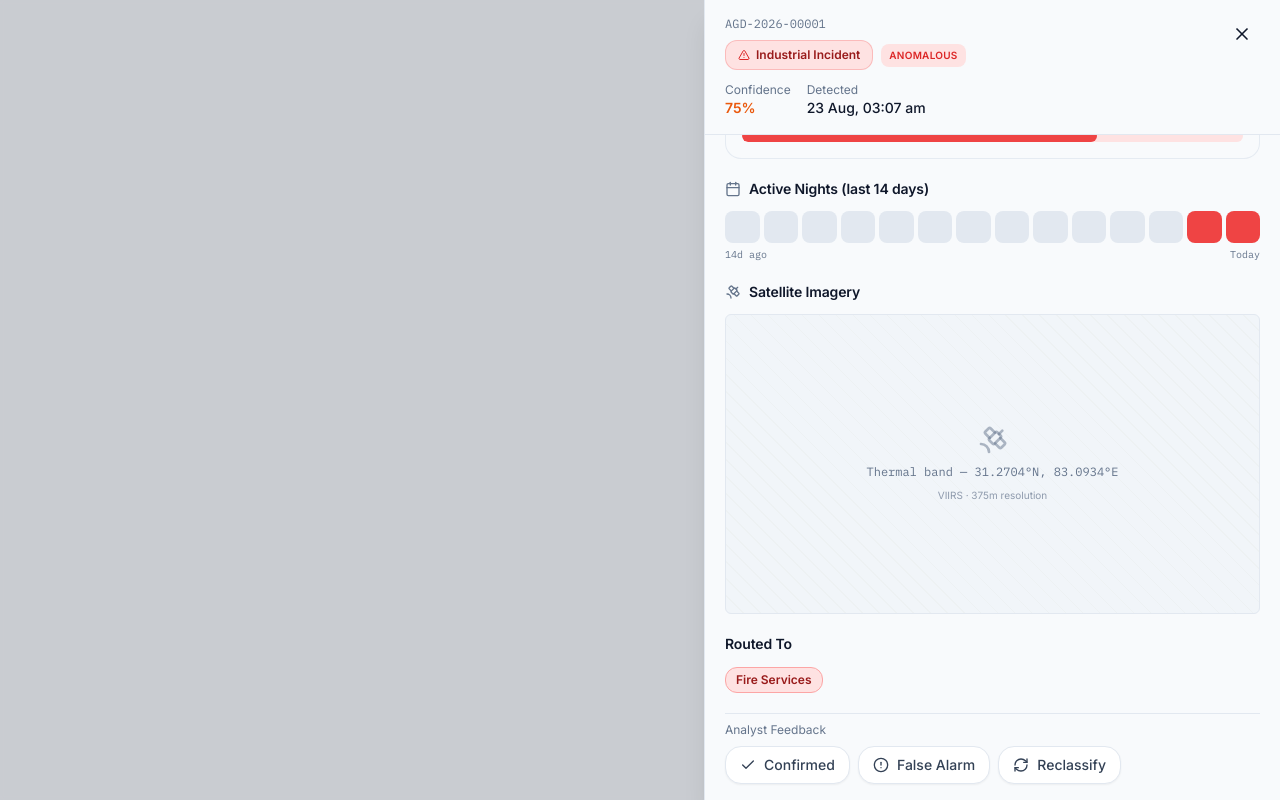
it: EventDetail — analyst feedback actions › optimistically reflects the confirmation in the UI when the backend is unreachable
(page scrolled)
What coordinates should you click on to do the following:
click the button "Confirmed"
I would click on:
 (787, 765)
Its box is 725,746 -> 850,784.
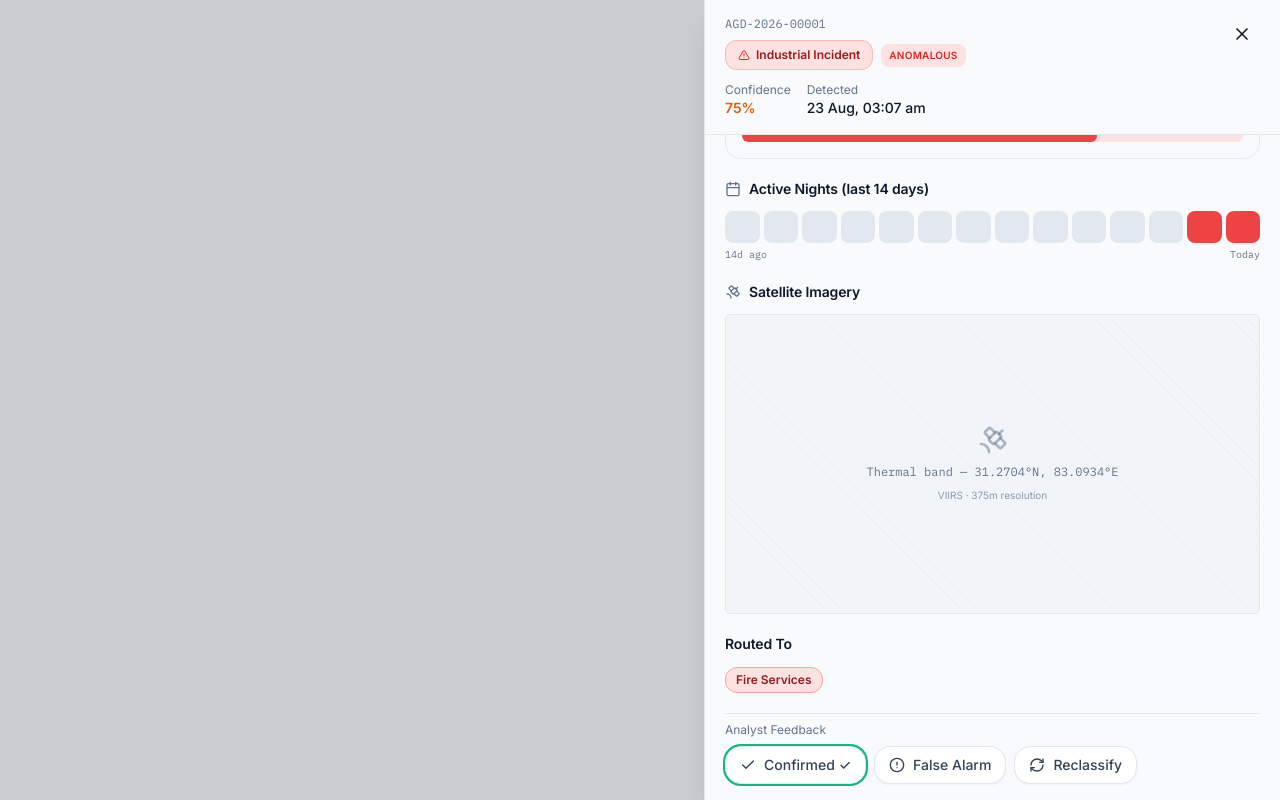
Expected: the button "Confirmed ✓" is shown, 725,746 -> 866,784
